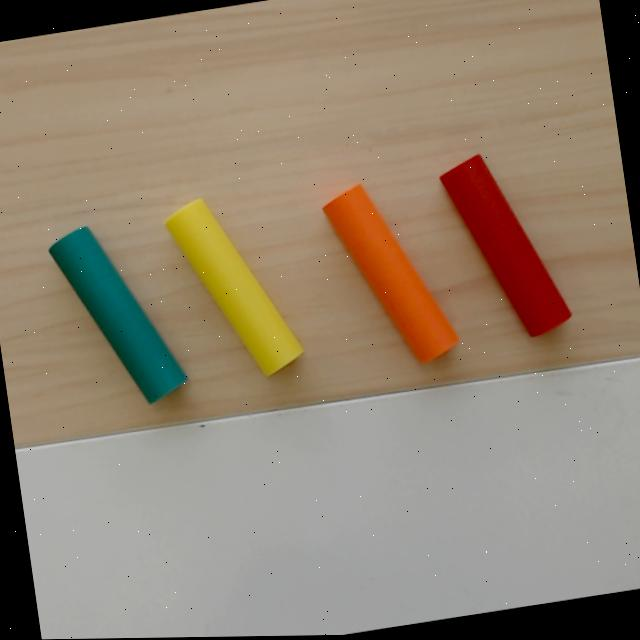Silinder-Hijau-10025: (46, 223, 189, 405)
Silinder-Jingga-10025: (319, 182, 462, 368)
Silinder-Kuning-10025: (161, 196, 306, 379)
Silinder-Merah-10025: (438, 154, 573, 341)
